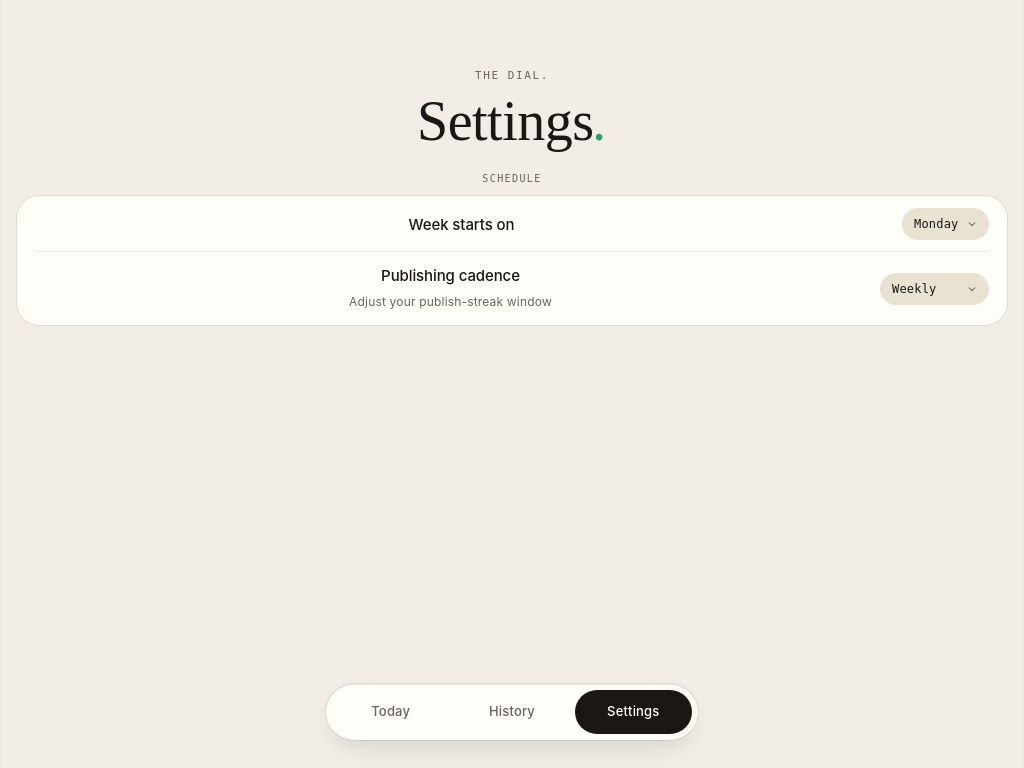
SettingsScreen — cadence dropdown › reverts displayed value and shows the error indicator on PATCH failure
The width and height of the screenshot is (1024, 768).
Select "Bi-weekly" in the dropdown named "publishing cadence": (934, 289) x1=892 y1=282 x2=977 y2=296
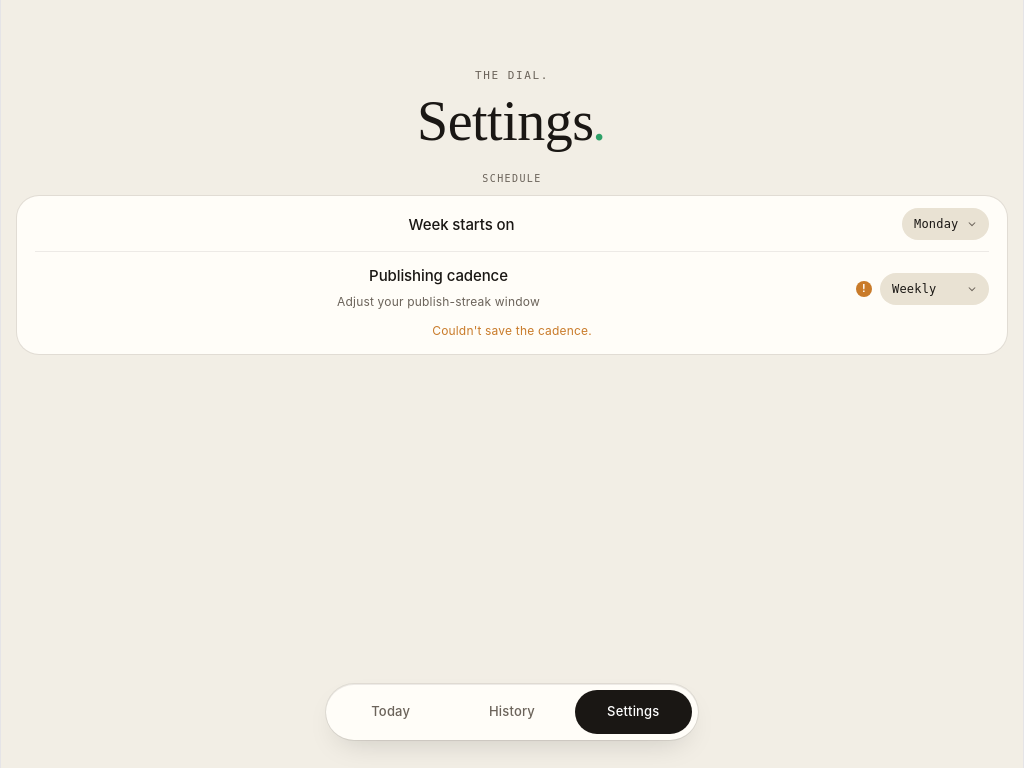
Expected: the message shows "Couldn't save the cadence", x1=432 y1=323 x2=592 y2=338
